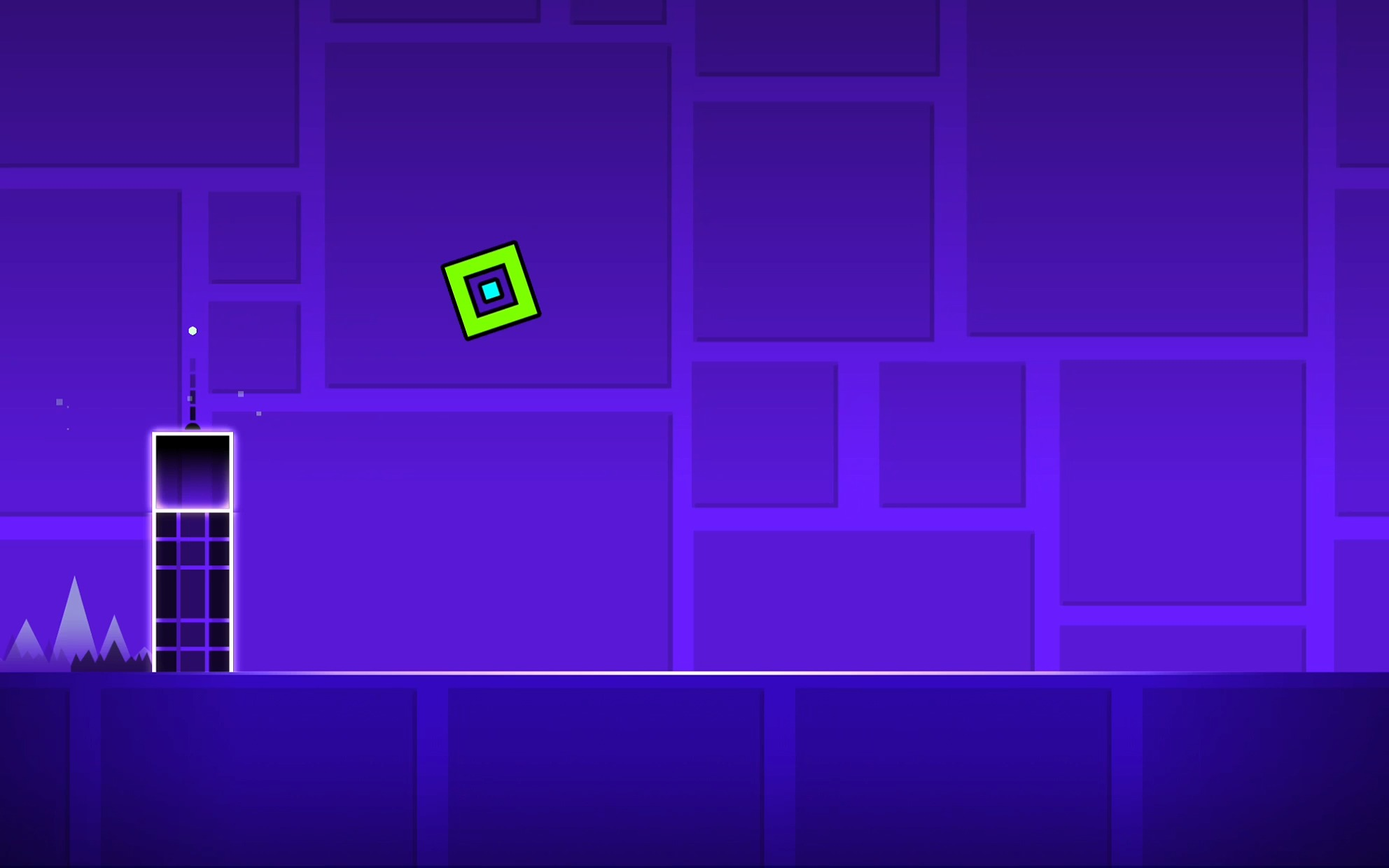Block: (153, 431, 232, 510)
Block2: (155, 512, 232, 674)
Player: (442, 241, 540, 340)
Spike3: (5, 644, 151, 673)
